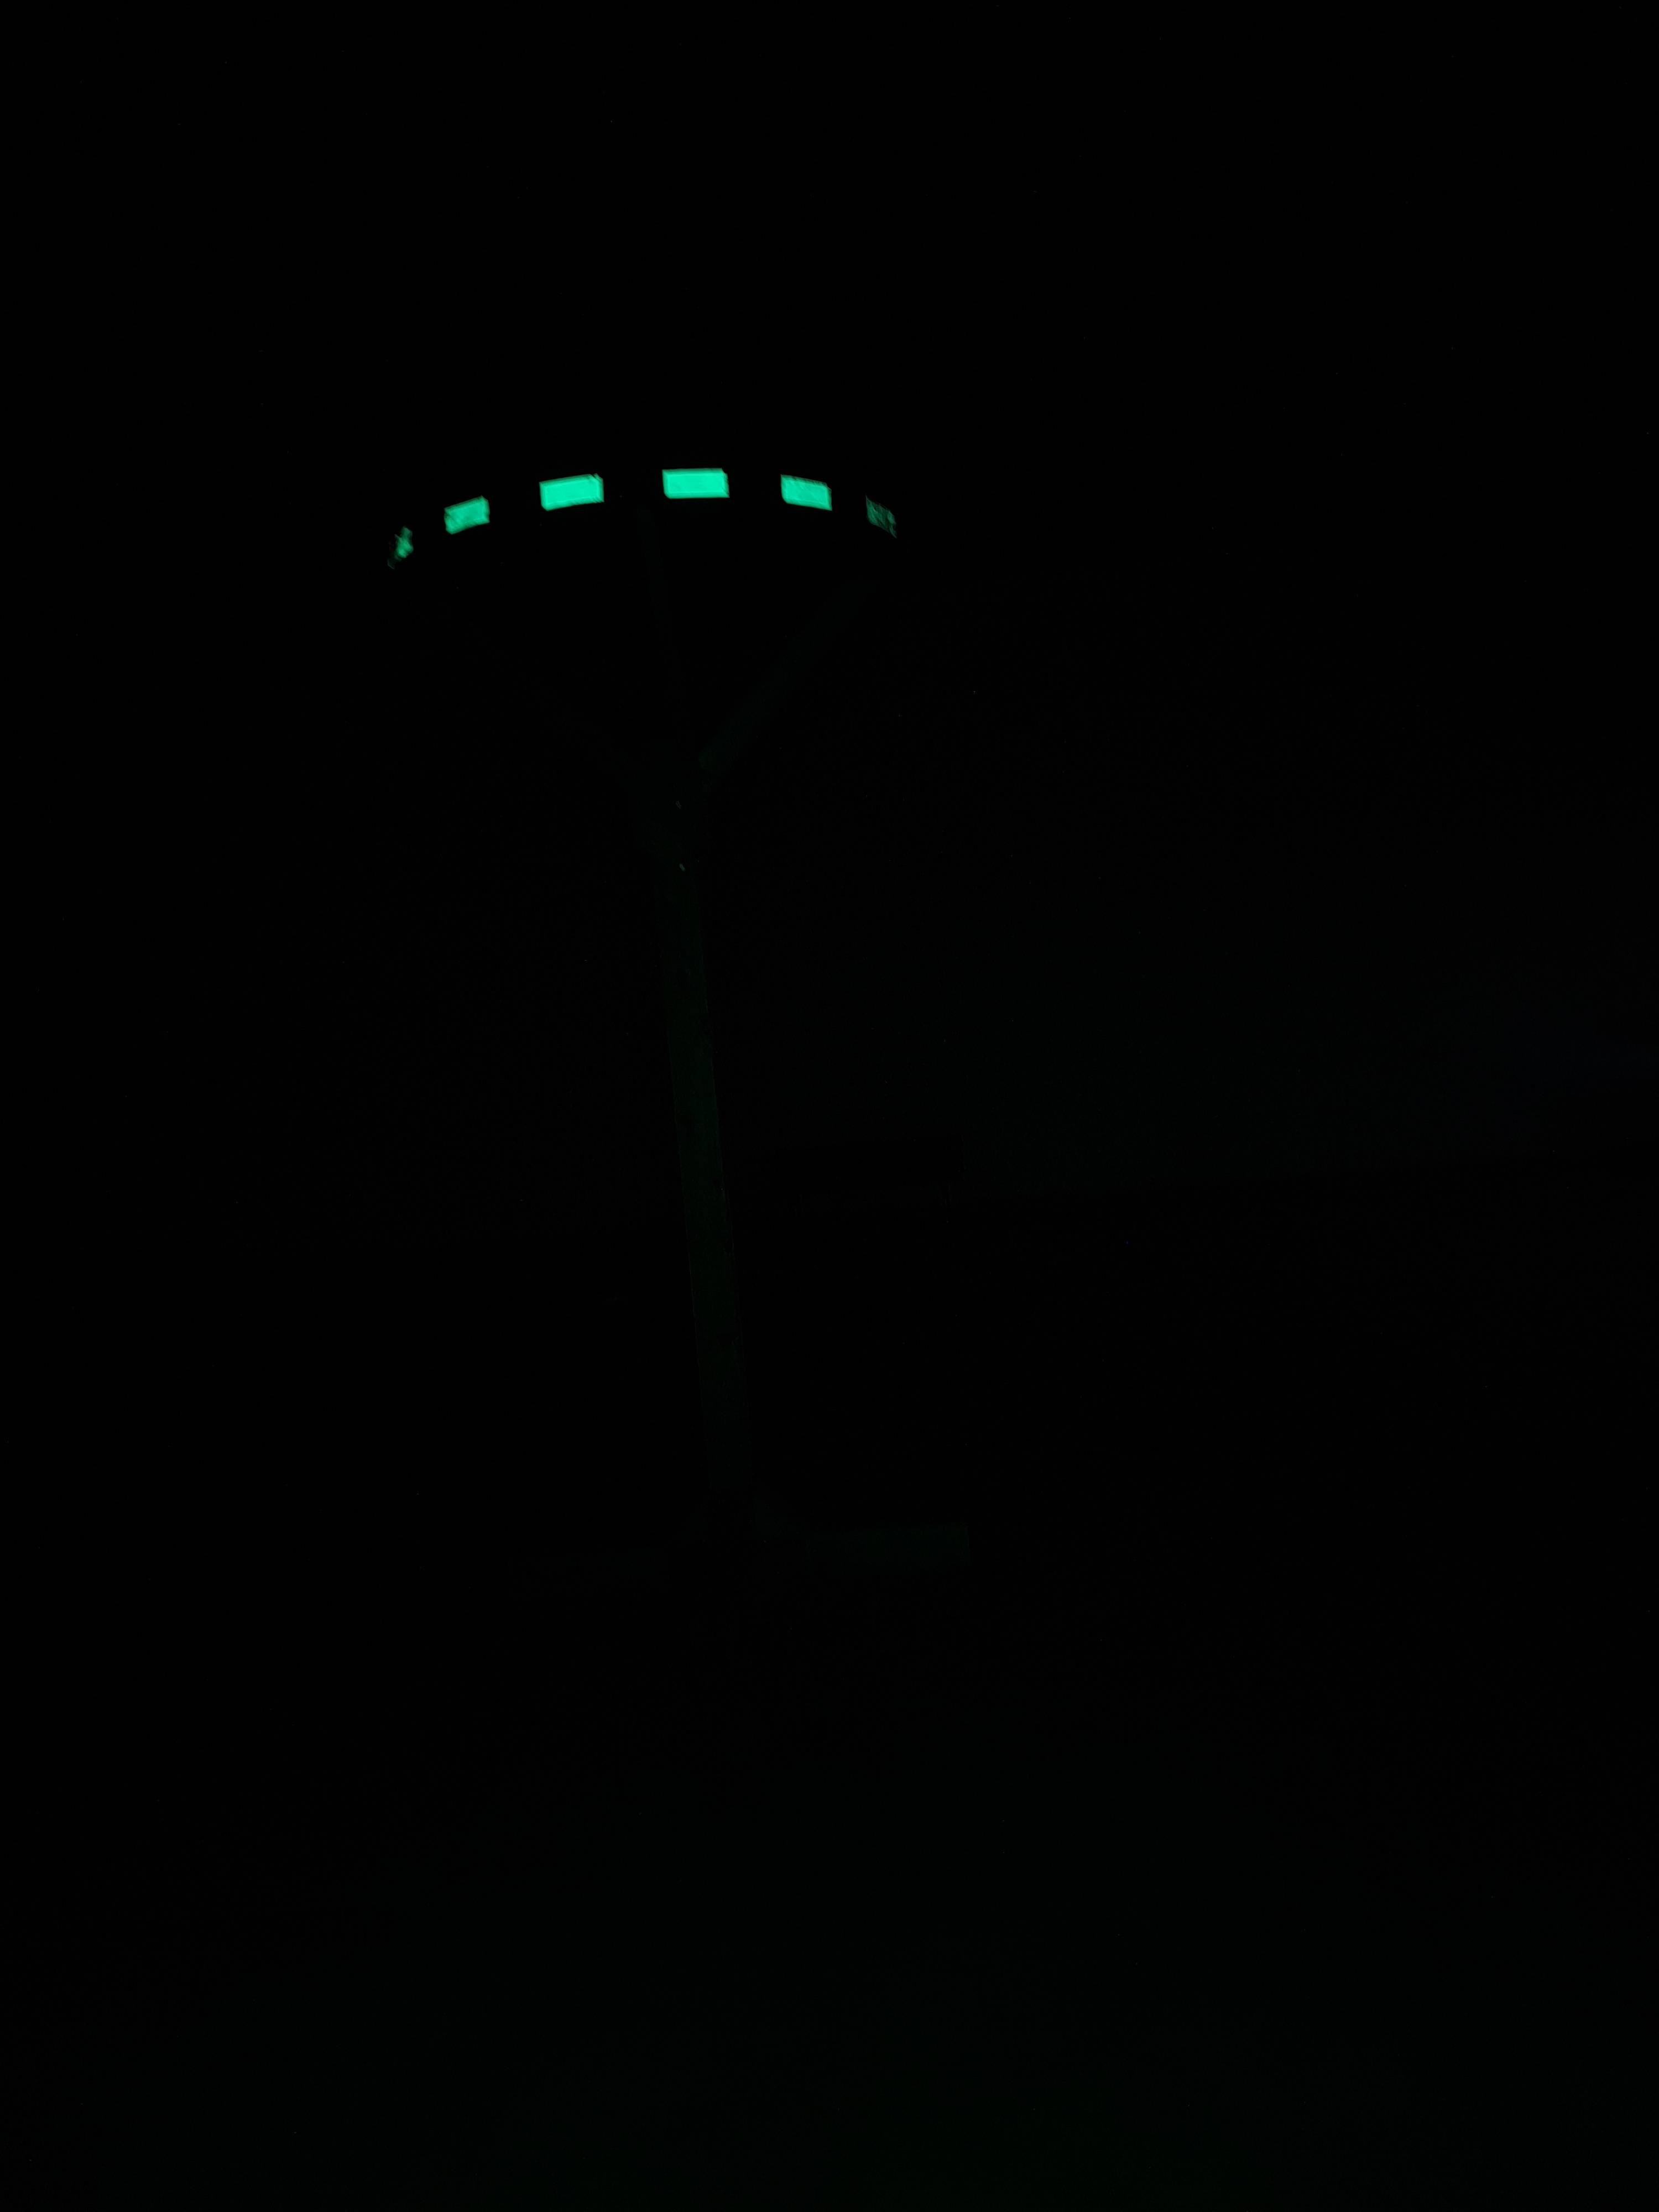hoop: (378, 462, 901, 583)
